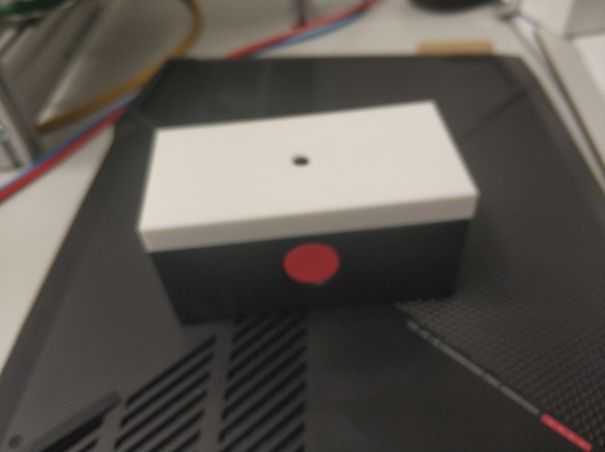white+black+red: (126, 97, 486, 337)
